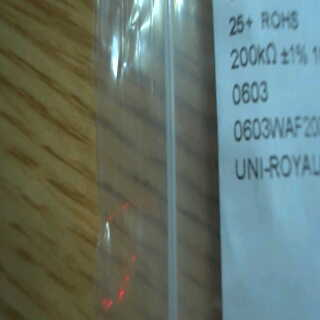200kR: (217, 37, 281, 73)
